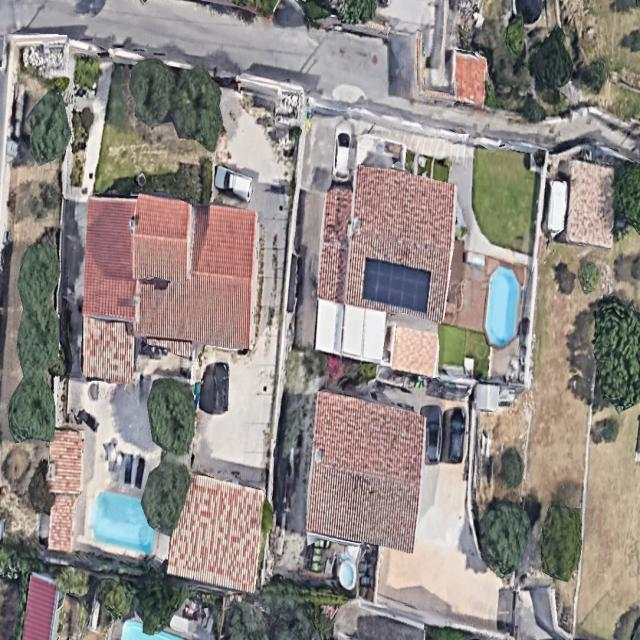maison: (80, 189, 260, 390), (306, 161, 462, 370), (303, 390, 430, 553), (162, 473, 275, 595)
